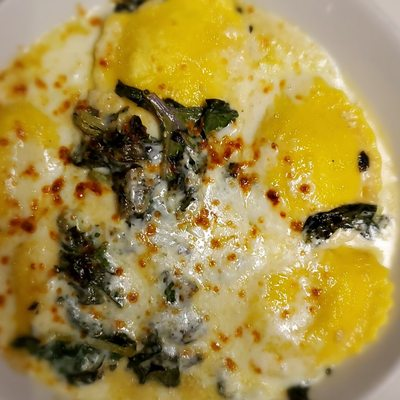sandwich: (0, 2, 393, 400)
